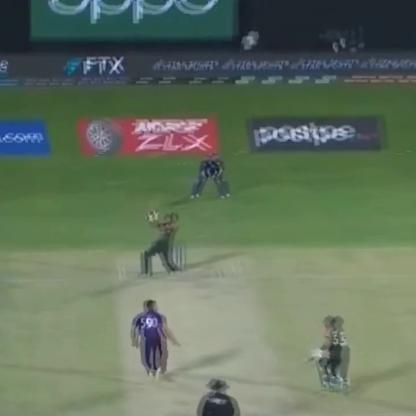pitch: (101, 252, 290, 416)
